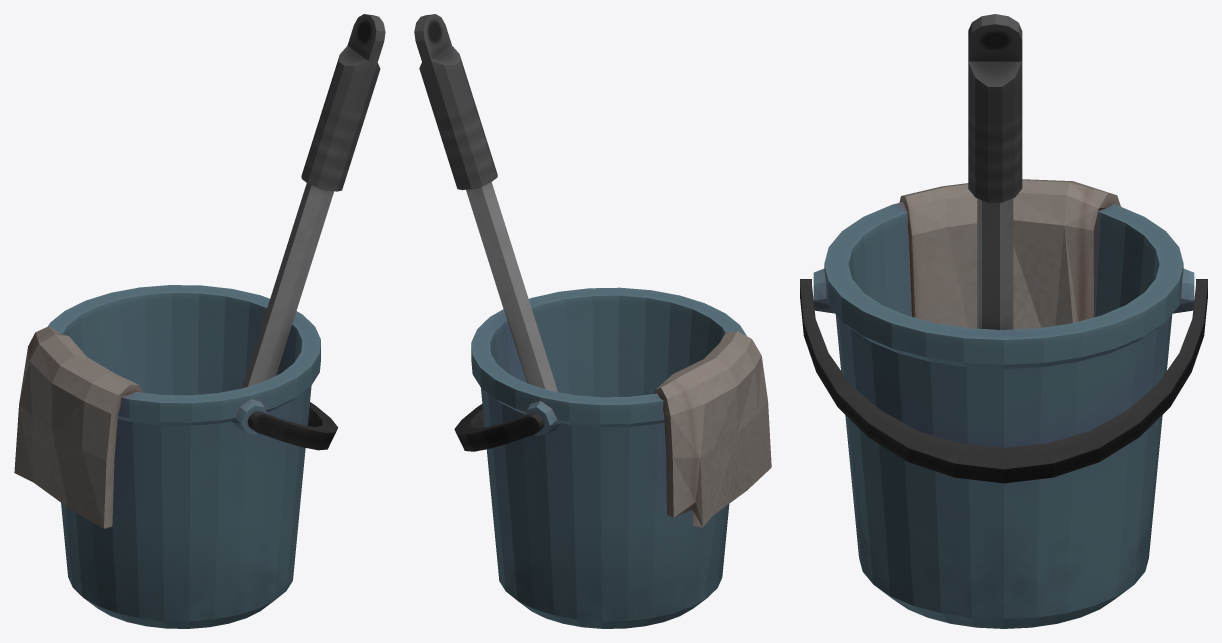
Rendered from P_Bucket_006_S1_M02.obj.
3 views of the same model, side by side, from view 1: azimuth 30°, elevation 25°; view 2: azimuth 150°, elevation 25°; view 3: azimuth 270°, elevation 25° (orthographic). The views are drawn at different scales.
Bounding box in the file's own units: 0.7721 × 1.21 × 0.656.
1 material, 1 textured.
